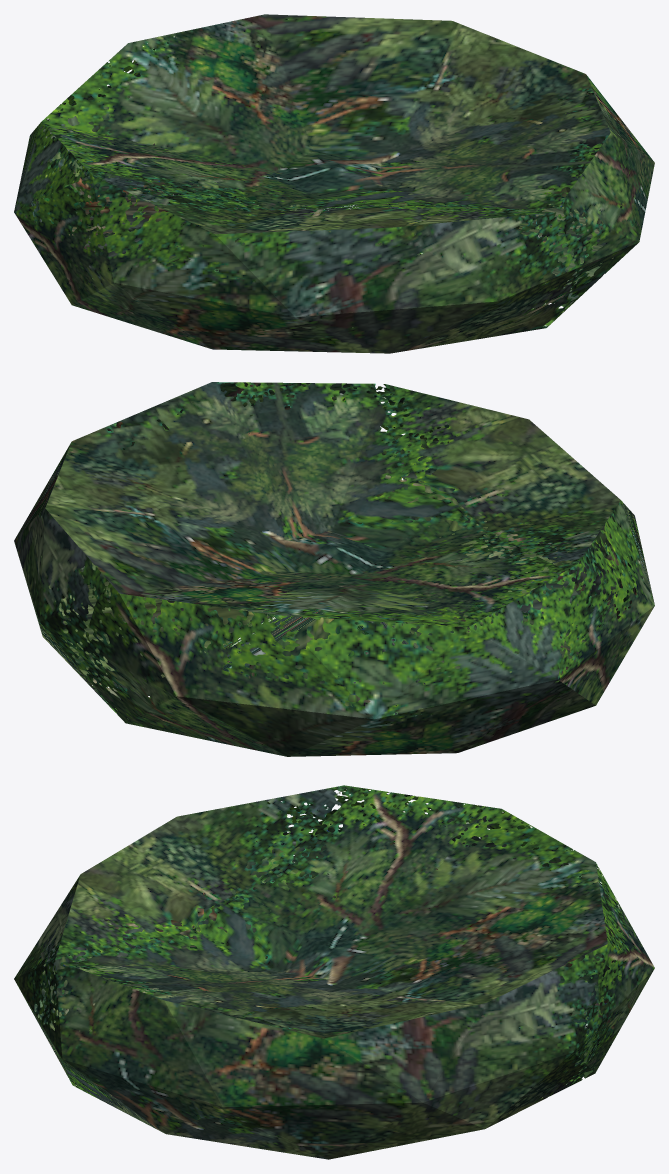
Rendered from MTree_8_Bch_2.gltf.
3 views of the same model, one above another, from view 1: azimuth 30°, elevation 25°; view 2: azimuth 150°, elevation 25°; view 3: azimuth 270°, elevation 25° (orthographic). The views are drawn at different scales.
Visible parts, largest first — view 1: MTree_8_Bch_2; view 2: MTree_8_Bch_2; view 3: MTree_8_Bch_2.
Boxes of the visible parts, <box> form: MTree_8_Bch_2: <box>14,14,654,353</box>; MTree_8_Bch_2: <box>14,382,654,756</box>; MTree_8_Bch_2: <box>14,785,654,1159</box>.
Size of the model in its own units: 10.39 by 2.58 by 10.55.
Materials: 1 (1 with a texture image).
